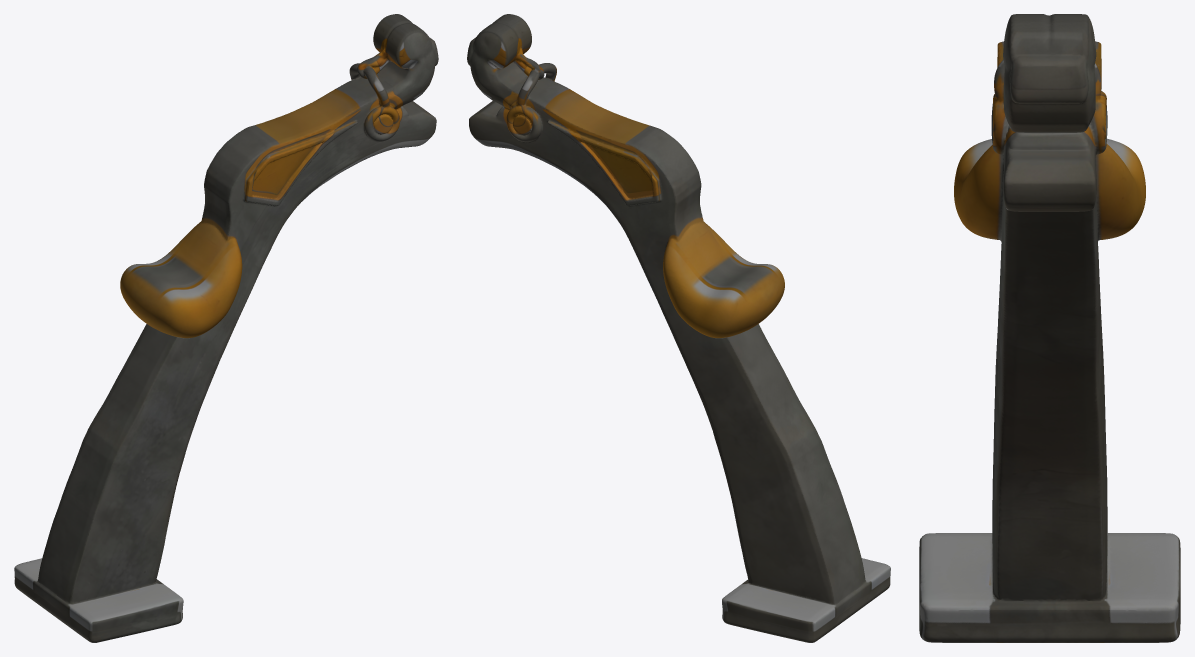
The picture shows the model from 3 angles, left to right: view 1: azimuth 30°, elevation 25°; view 2: azimuth 150°, elevation 25°; view 3: azimuth 270°, elevation 25°; orthographic projection. The views are drawn at different scales.
Visible parts, largest first — view 1: tripo_node_e48ff709-a689-487e-8310-47a80257c1c9; view 2: tripo_node_e48ff709-a689-487e-8310-47a80257c1c9; view 3: tripo_node_e48ff709-a689-487e-8310-47a80257c1c9.
Boxes of the visible parts, <box> form: tripo_node_e48ff709-a689-487e-8310-47a80257c1c9: <box>14,14,438,642</box>; tripo_node_e48ff709-a689-487e-8310-47a80257c1c9: <box>467,14,890,642</box>; tripo_node_e48ff709-a689-487e-8310-47a80257c1c9: <box>919,14,1180,642</box>.
Bounding box in the file's own units: 0.7729 × 1 × 0.2842.
Materials: 1 (1 with a texture image).
